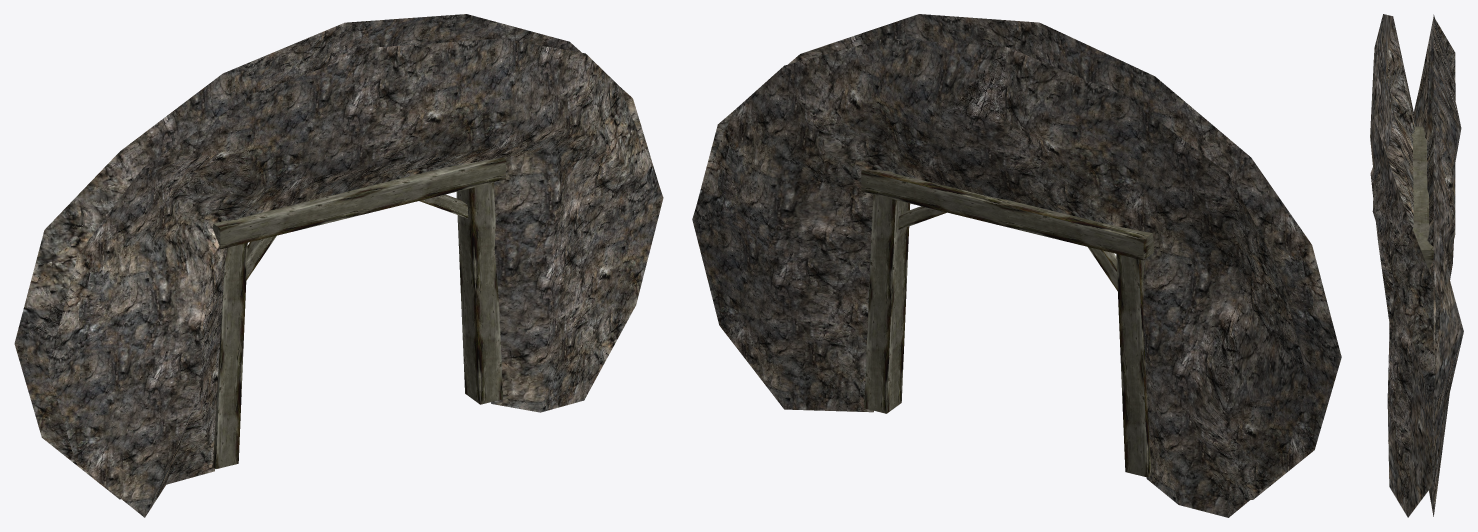
File: pir_m_prp_mng_support_wide.fbx
The picture shows the model from 3 angles, left to right: view 1: azimuth 30°, elevation 25°; view 2: azimuth 150°, elevation 25°; view 3: azimuth 270°, elevation 25°; orthographic projection. The views are drawn at different scales.
Parts seen in each view (by area): view 1: rockwall_2, rockwall_1, minesupport_4, minesupport_1, minesupport_3; view 2: rockwall_1, rockwall_2, minesupport_1, minesupport_4, minesupport_3; view 3: rockwall_2, rockwall_1, minesupport_1.
Part boxes in pixels (<box>): rockwall_2: <box>48,38,663,517</box>; rockwall_1: <box>14,14,657,499</box>; minesupport_4: <box>456,182,502,404</box>; minesupport_1: <box>212,157,505,249</box>; minesupport_3: <box>212,242,247,468</box>; rockwall_1: <box>692,38,1308,517</box>; rockwall_2: <box>696,14,1341,499</box>; minesupport_1: <box>861,170,1153,260</box>; minesupport_4: <box>864,194,910,413</box>; minesupport_3: <box>1116,254,1151,477</box>; rockwall_2: <box>1370,14,1440,517</box>; rockwall_1: <box>1414,14,1463,516</box>; minesupport_1: <box>1411,126,1433,268</box>.
Size of the model in its own units: 12796 by 8114 by 1851.
2 materials, 2 textured.
